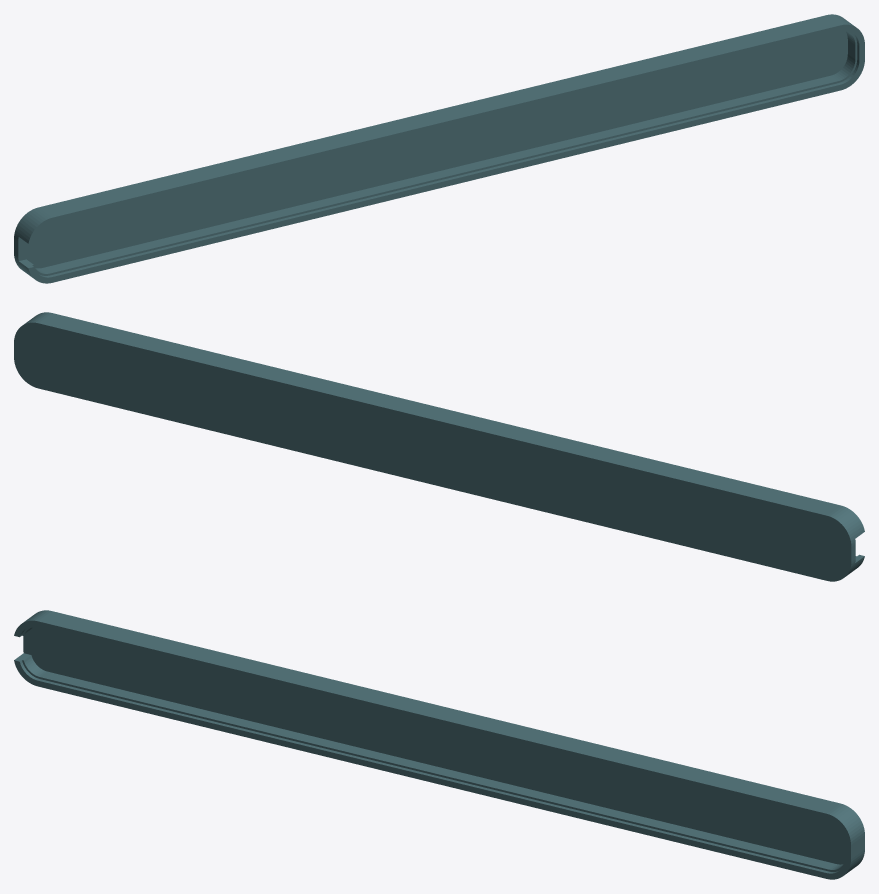
File: led-holder__v0.glb
The picture shows the model from 3 angles, top to bottom: view 1: azimuth 30°, elevation 25°; view 2: azimuth 150°, elevation 25°; view 3: azimuth 330°, elevation 25°; orthographic projection.
Parts seen in each view (by area): view 1: led-holder; view 2: led-holder; view 3: led-holder.
Boxes of the visible parts, x1=… form: led-holder: x1=14, y1=14, x2=864, y2=283; led-holder: x1=14, y1=312, x2=864, y2=581; led-holder: x1=14, y1=610, x2=864, y2=879.
Size of the model in its own units: 0.2245 by 0.0167 by 0.0065.
